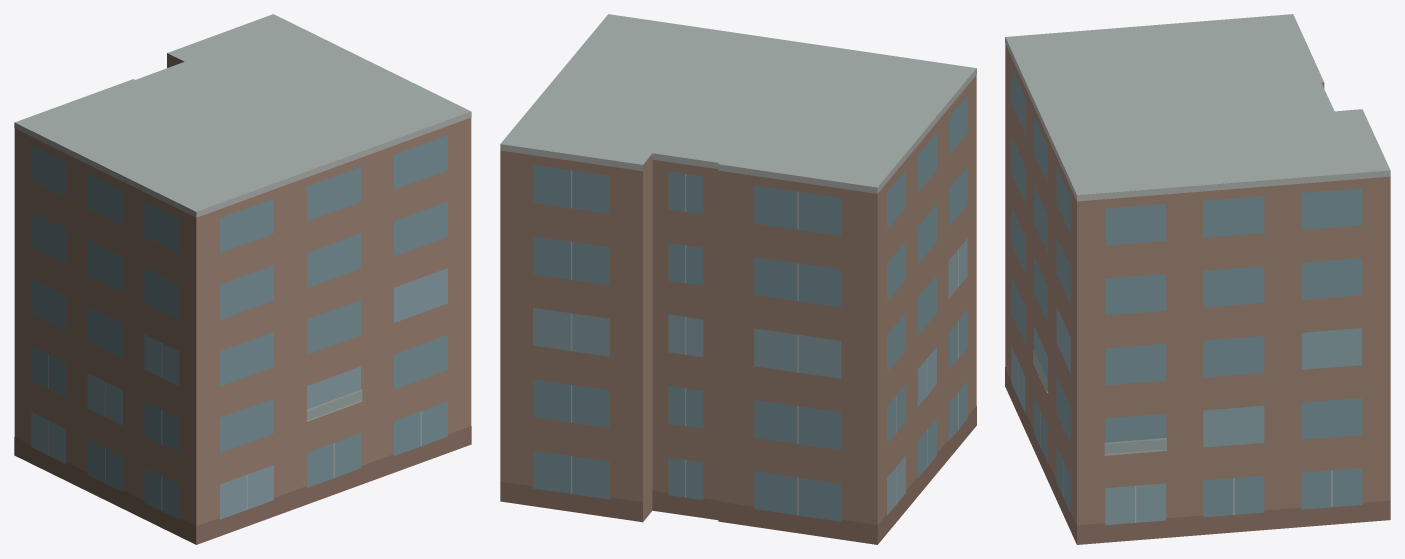
Rendered from survey-upis-32615017.glb.
3 views of the same model, side by side, from view 1: azimuth 30°, elevation 25°; view 2: azimuth 150°, elevation 25°; view 3: azimuth 270°, elevation 25° (orthographic). The views are drawn at different scales.
Parts seen in each view (by area): view 1: survey-upis-32615017.tmp; view 2: survey-upis-32615017.tmp; view 3: survey-upis-32615017.tmp.
Boxes of the visible parts, box(x1,y1,x2,y2) form: survey-upis-32615017.tmp: box(14, 14, 471, 544); survey-upis-32615017.tmp: box(500, 14, 976, 544); survey-upis-32615017.tmp: box(1005, 14, 1390, 544).
Size of the model in its own units: 15.42 by 13.85 by 13.85.
